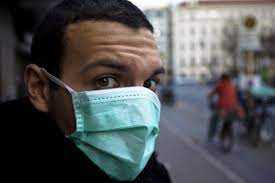FaceMask: (72, 87, 161, 180)
